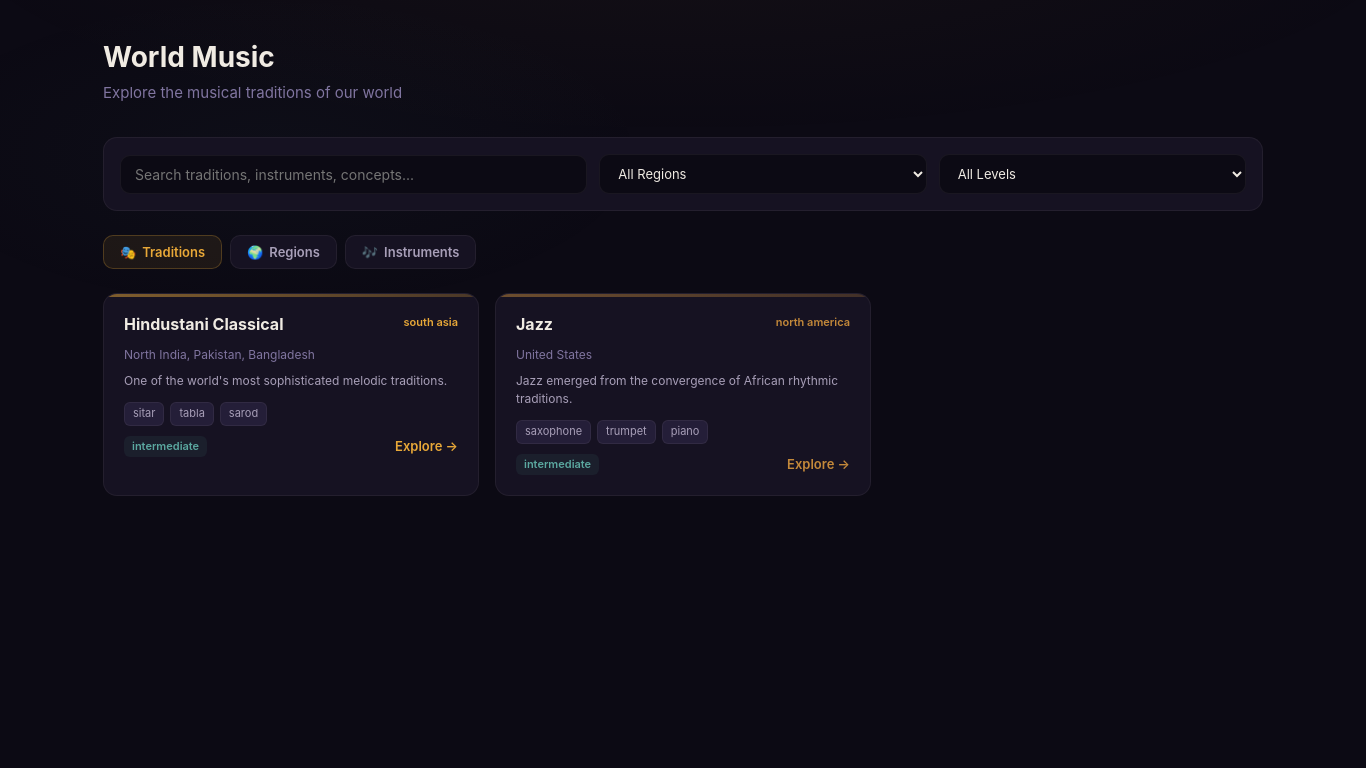
Test: WorldMusic page › filters by difficulty
Check: the heading "Hindustani Classical" is shown, box [124,314,284,335]
Select "Beginner" in the 2nd dropdown showing "All Levels". click: (1092, 174)
box: [939,154,1246,194]
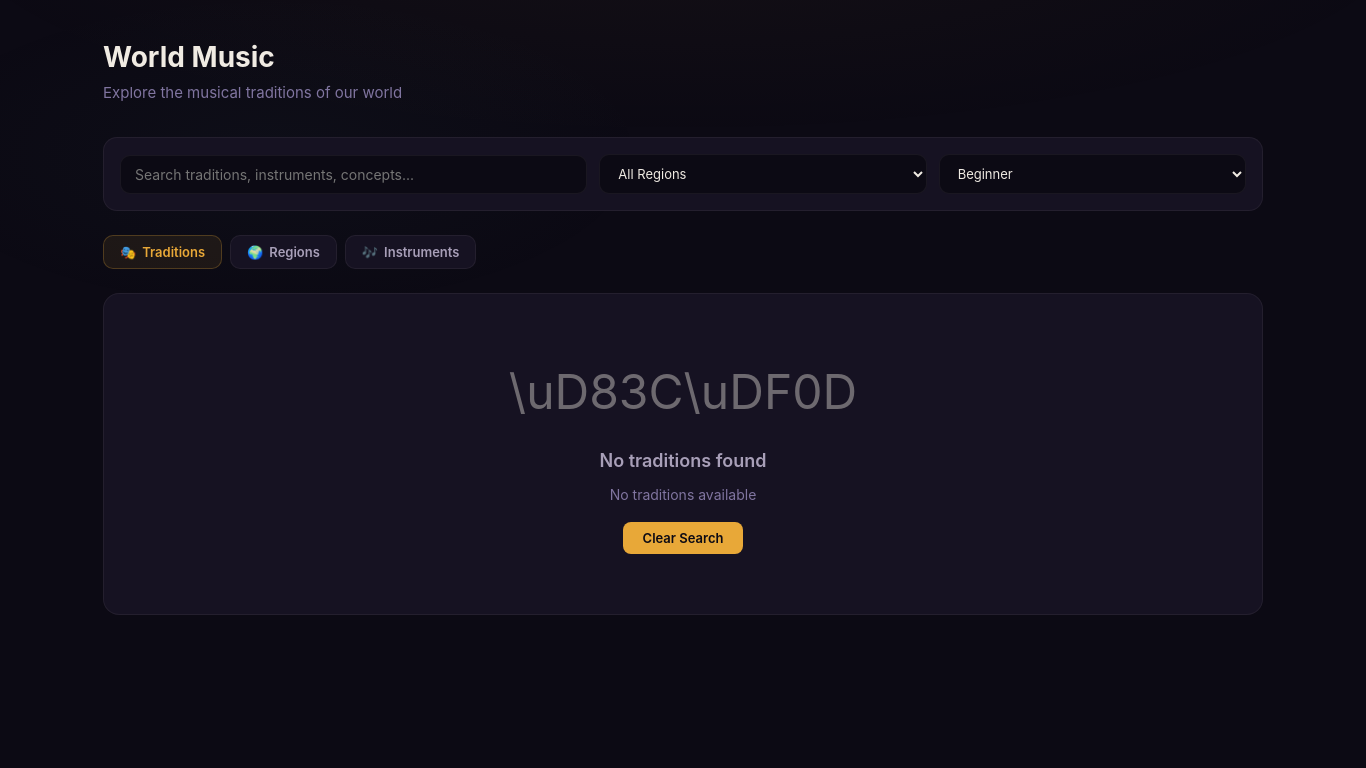
Check: the button "Hindustani Classical" is gone
Check: the button "Jazz" is gone
